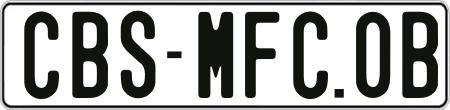0: (354, 10, 391, 101)
B: (72, 10, 109, 98), (399, 12, 432, 98)
C: (21, 10, 58, 103), (292, 10, 329, 97)
F: (243, 9, 277, 98)
M: (197, 10, 233, 102)
S: (119, 9, 153, 97)
